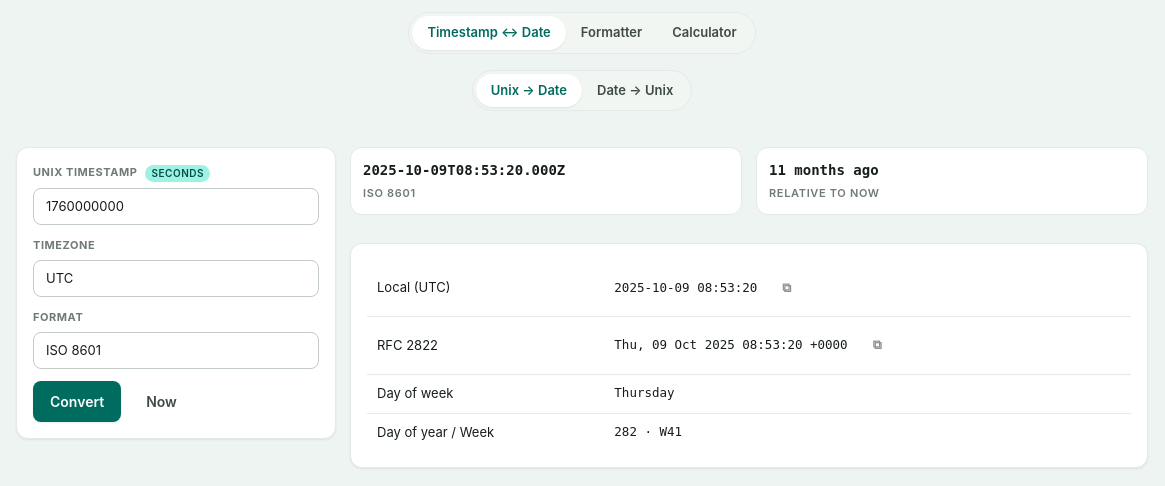
Scenario: DateToolsPage — timestamp direction toggle › switching to Date -> Unix direction shows the date/time input and hides the Unix input
Click the button "Date → Unix" at (635, 90), box [582,74,688,107]
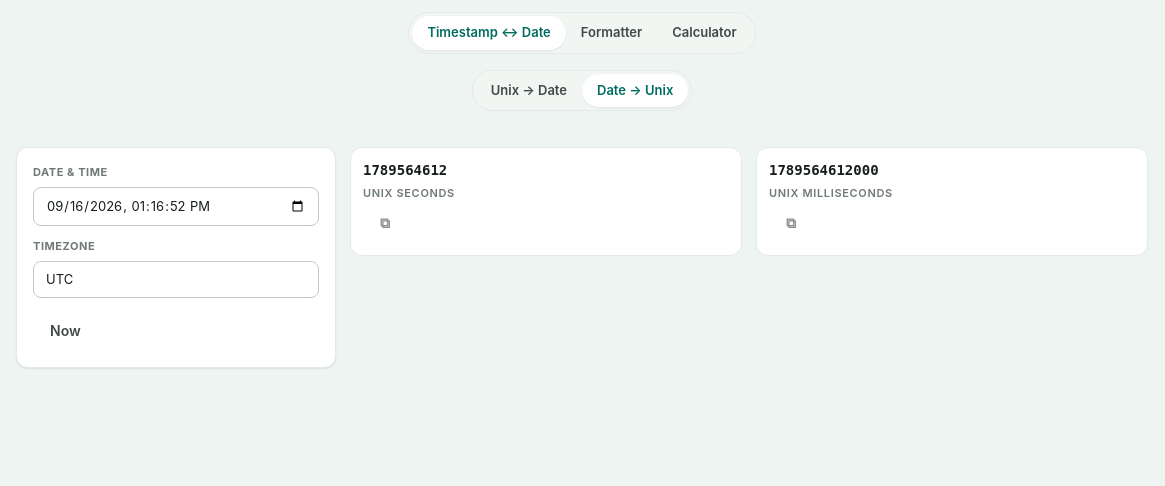
Expected: the field labelled "Date & time" is shown, [33,186,319,226]
Now the label labelled "Unix timestamp" is gone
